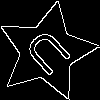U: (21, 26, 80, 85)
